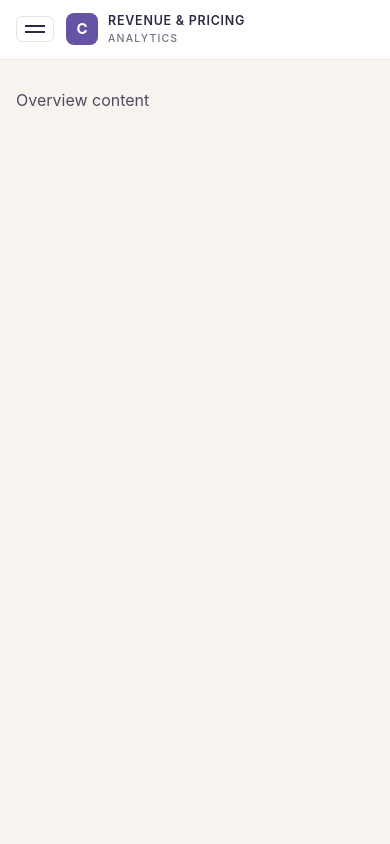
AppShell navigation › exposes all five destinations and opens then closes the mobile menu
Later steps or results of the test are not shown.
Click the button named "Toggle navigation": {"x": 35, "y": 29} [16,16,54,42]
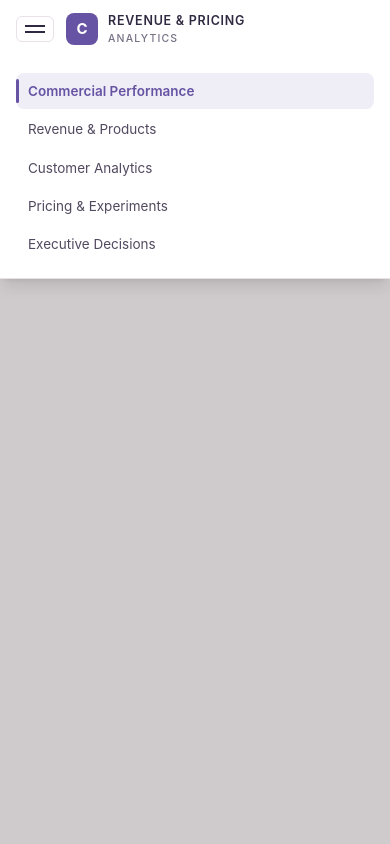
Expected: the number of links "Executive Decisions" is 2
